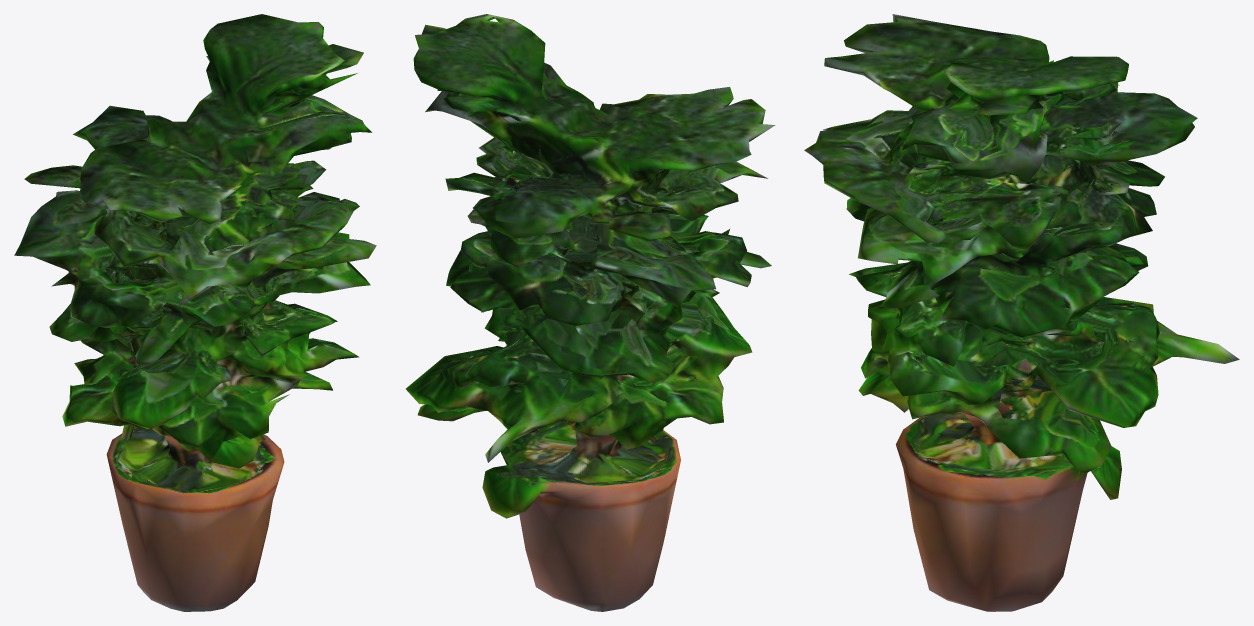
File: 90d91bba6ef7_indoor_plant_in_a_p.fbx
3 views of the same model, side by side, from view 1: azimuth 30°, elevation 25°; view 2: azimuth 150°, elevation 25°; view 3: azimuth 270°, elevation 25° (orthographic). The views are drawn at different scales.
Parts seen in each view (by area): view 1: mesh; view 2: mesh; view 3: mesh.
Boxes of the visible parts, x1,y1,x2,y2 form: mesh: (14,14,376,611); mesh: (406,14,775,611); mesh: (804,14,1239,611).
Bounding box in the file's own units: 64.1 × 100 × 67.56.
